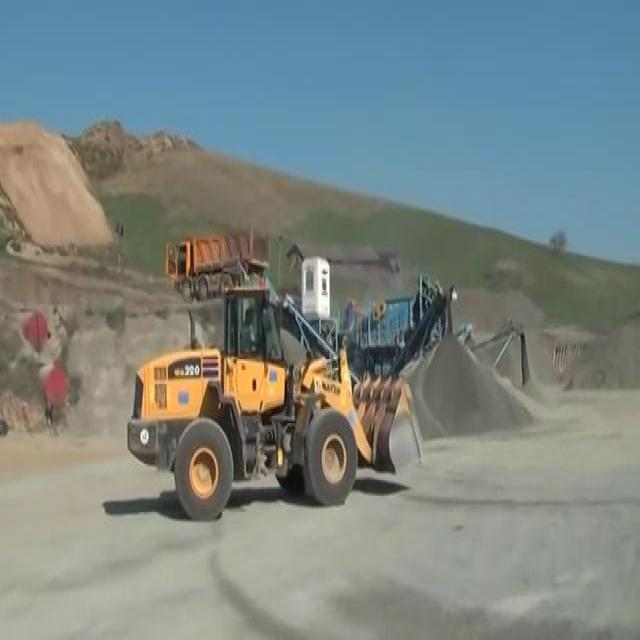Dump Truck: (162, 220, 272, 302)
Loader: (125, 276, 426, 524)
